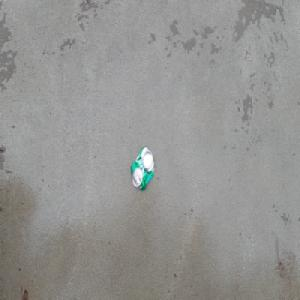SodaCan: (130, 145, 155, 192)
